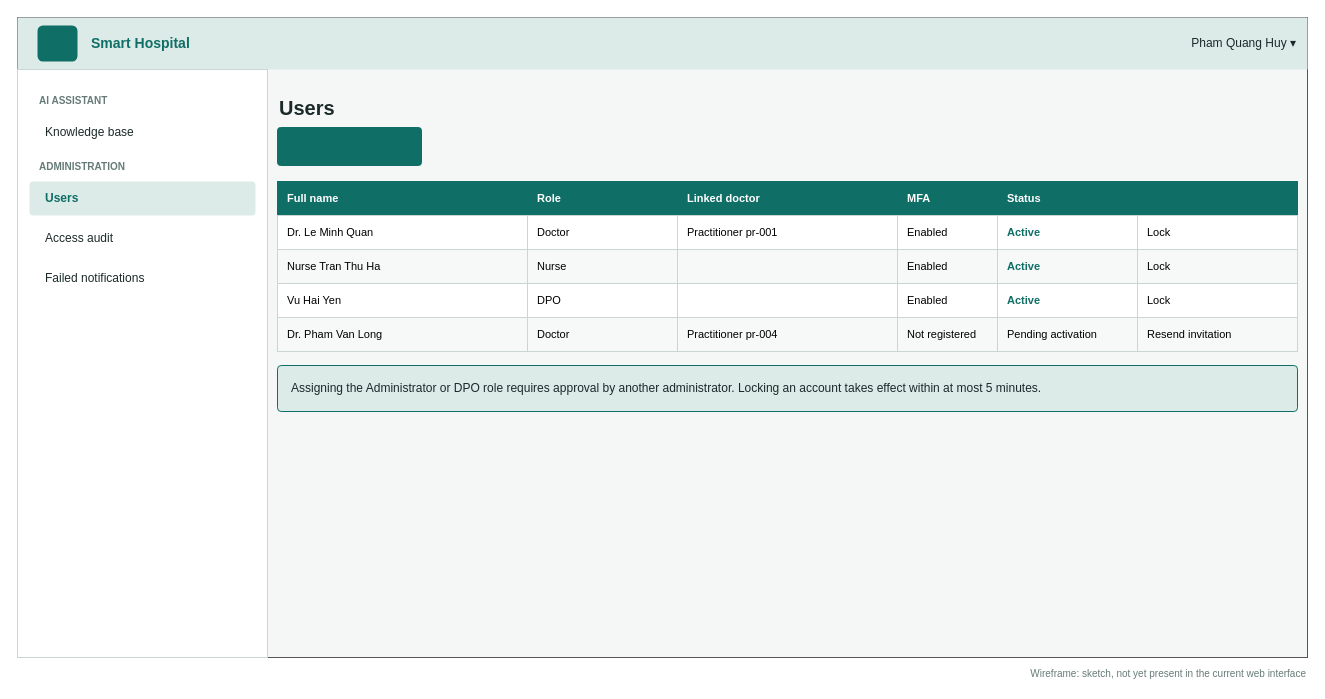
Image size: 1325x699. Some labels were removed from this diagram. The shapes that lost their labels are listed below. From the top down, each one's centre as x and y in pixels, then its label:
At pixel 57 43: "SHP".
At pixel 349 146: "Invite staff".
